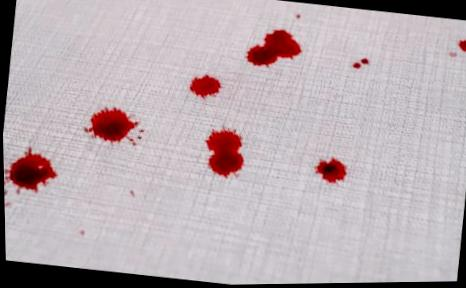Fire: (3, 146, 58, 194), (82, 107, 140, 146), (245, 30, 302, 69), (203, 125, 244, 179), (313, 157, 347, 185), (188, 74, 221, 99), (457, 40, 466, 53), (352, 63, 362, 69), (360, 59, 369, 65)
